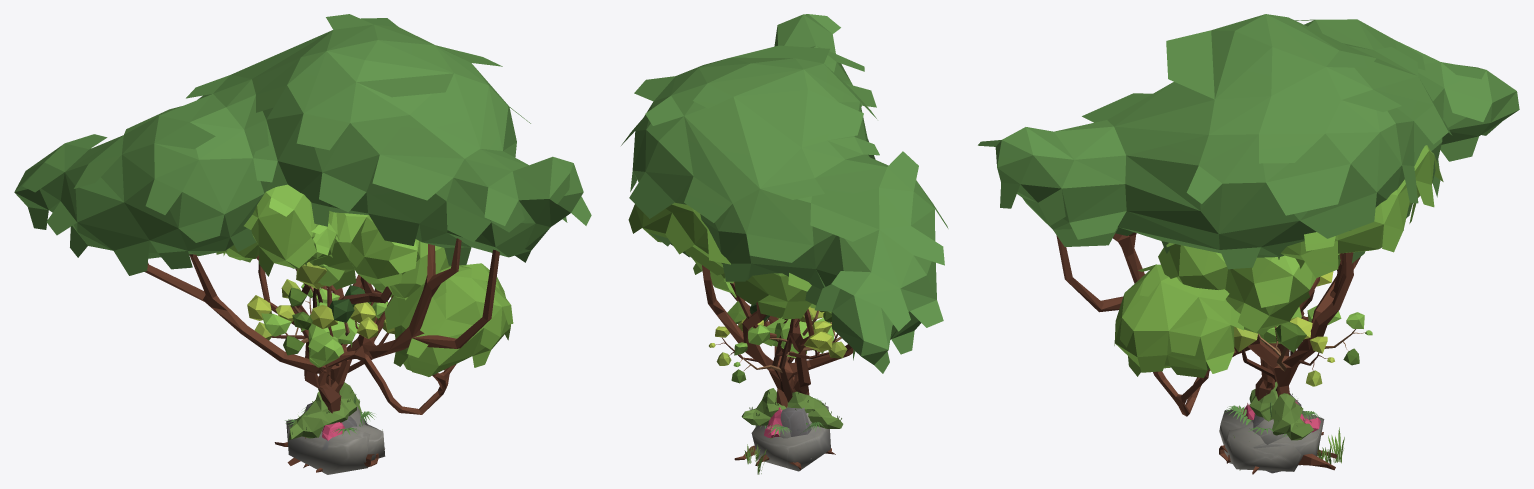
Rendered from props.gltf.
3 renders of one model, left to right at view 1: azimuth 30°, elevation 25°; view 2: azimuth 150°, elevation 25°; view 3: azimuth 270°, elevation 25°, orthographic. The views are drawn at different scales.
Parts seen in each view (by area): view 1: Tree.005, Tree.003, Tree.002, Tree.004, Tree.001, Rock2-col, Tree, Plant.012, Rock3-col; view 2: Tree.005, Tree.002, Rock2-col, Tree.004, Tree.001, Plant.012, Tree.003, Tree, Rock4-col; view 3: Tree.005, Tree.002, Tree.003, Rock3-col, Plant.012, Tree.004, Tree.001, Rock2-col.
Boxes of the visible parts, box(x1,y1,x2,y2) form: Tree.005: box(14, 14, 591, 467); Tree.003: box(216, 184, 461, 465); Tree.002: box(256, 255, 513, 472); Tree.004: box(247, 262, 394, 384); Tree.001: box(261, 264, 388, 382); Rock2-col: box(286, 419, 377, 474); Tree: box(301, 222, 359, 386); Plant.012: box(288, 382, 361, 440); Rock3-col: box(345, 424, 385, 462); Tree.005: box(621, 14, 948, 470); Tree.002: box(628, 202, 814, 392); Rock2-col: box(751, 405, 830, 471); Tree.004: box(709, 306, 847, 391); Tree.001: box(727, 301, 841, 402); Plant.012: box(741, 388, 843, 428); Tree.003: box(692, 258, 835, 474); Tree: box(724, 278, 835, 392); Rock4-col: box(780, 407, 811, 436); Tree.005: box(978, 14, 1519, 474); Tree.002: box(1114, 145, 1443, 416); Tree.003: box(1158, 243, 1344, 470); Rock3-col: box(1224, 421, 1301, 471); Plant.012: box(1249, 381, 1313, 440); Tree.004: box(1234, 271, 1334, 393); Tree.001: box(1258, 305, 1372, 371); Rock2-col: box(1219, 409, 1324, 465).
Size of what is drawn, in the model's own units: 10.93 by 11.32 by 12.46.
3 materials, 3 textured.
